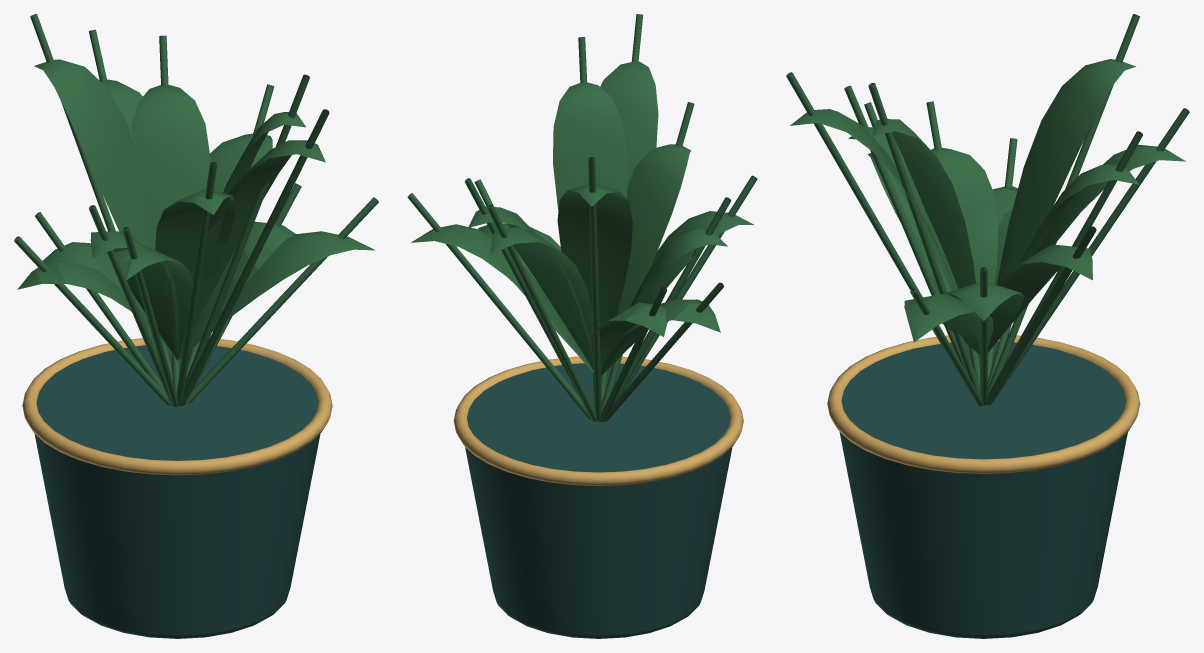
File: ceramic_planter.glb
The picture shows the model from 3 angles, left to right: view 1: azimuth 30°, elevation 25°; view 2: azimuth 150°, elevation 25°; view 3: azimuth 270°, elevation 25°; orthographic projection. The views are drawn at different scales.
Parts seen in each view (by area): view 1: Enamel, Leaf, Brass; view 2: Enamel, Leaf, Brass; view 3: Enamel, Leaf, Brass.
Boxes of the visible parts, box(x1,y1,x2,y2) form: Enamel: box(34, 345, 320, 638); Leaf: box(14, 14, 378, 406); Brass: box(22, 338, 332, 475); Enamel: box(465, 363, 732, 638); Leaf: box(407, 14, 757, 421); Brass: box(453, 356, 743, 485); Enamel: box(839, 341, 1127, 638); Leaf: box(786, 14, 1189, 406); Brass: box(827, 335, 1140, 473).
Bounding box in the file's own units: 1.17 × 1.93 × 1.29.
